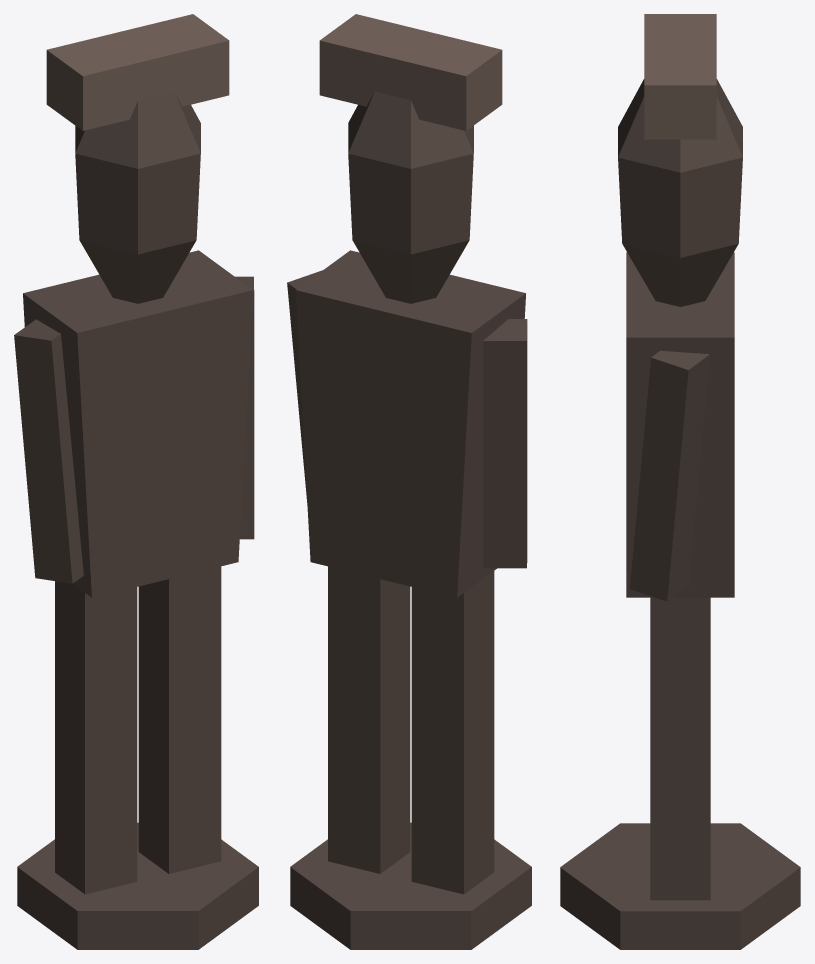
The model's file is sculpture-48.glb.
3 renders of one model, left to right at view 1: azimuth 30°, elevation 25°; view 2: azimuth 150°, elevation 25°; view 3: azimuth 270°, elevation 25°, orthographic.
Parts seen in each view (by area): view 1: sculpture_48; view 2: sculpture_48; view 3: sculpture_48.
Boxes of the visible parts, x1,y1,x2,y2 form: sculpture_48: (14, 14, 258, 949); sculpture_48: (287, 14, 531, 949); sculpture_48: (560, 14, 800, 949).
Bounding box in the file's own units: 0.1292 × 0.4431 × 0.1128.
